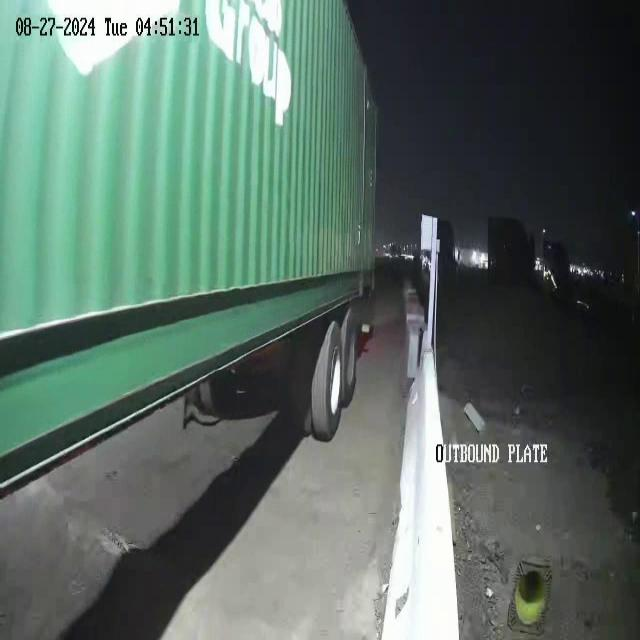TRUCK_OUT: (0, 0, 378, 493)
